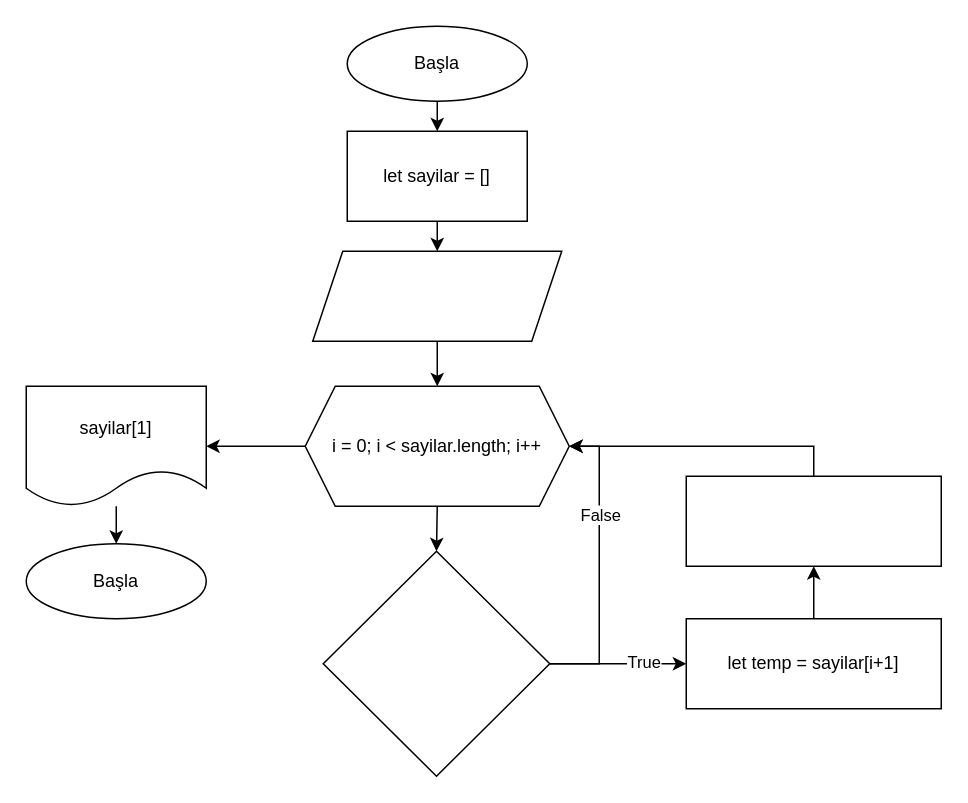
Some shapes in this 968 by 803 pixel diagram are drawn without their labels. The shapes that lost their labels are listed below. From the top down, each one's centre as x and y in pixels, then its label:
At point (436, 295): "sayilar[0] sayilar[1] sayilar[2]".
At point (813, 520): "sayilar[i+1]=sayilar[i] sayilar[i]=temp".
At point (436, 663): "sayilar[i] > sayilar[i+1]".
